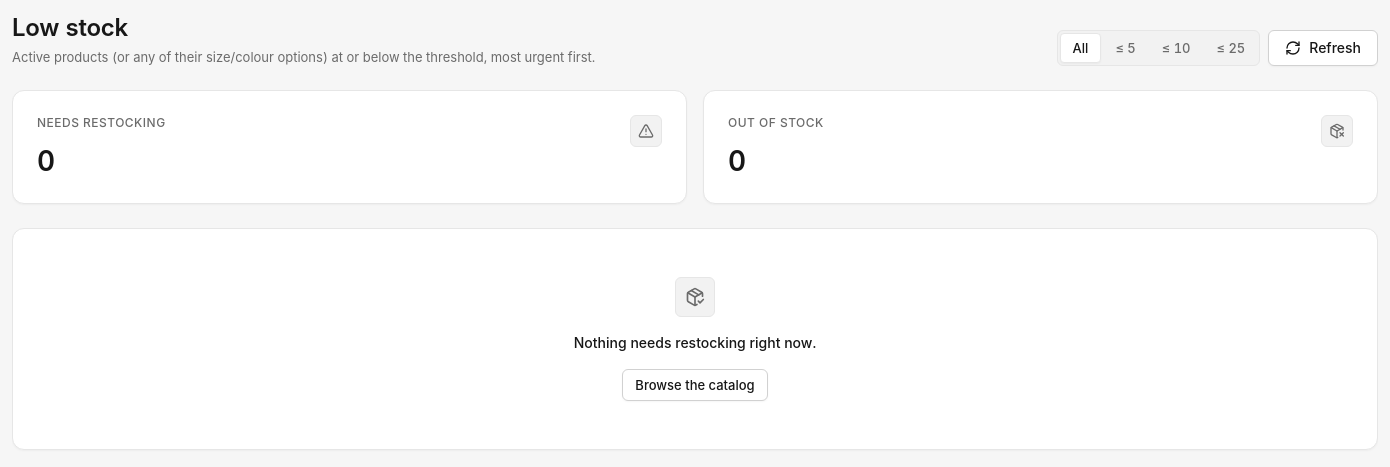
LowStock page › shows the threshold-specific empty state once a fixed range is picked
Click the button "≤ 5": (1126, 48) x1=1103 y1=33 x2=1148 y2=63
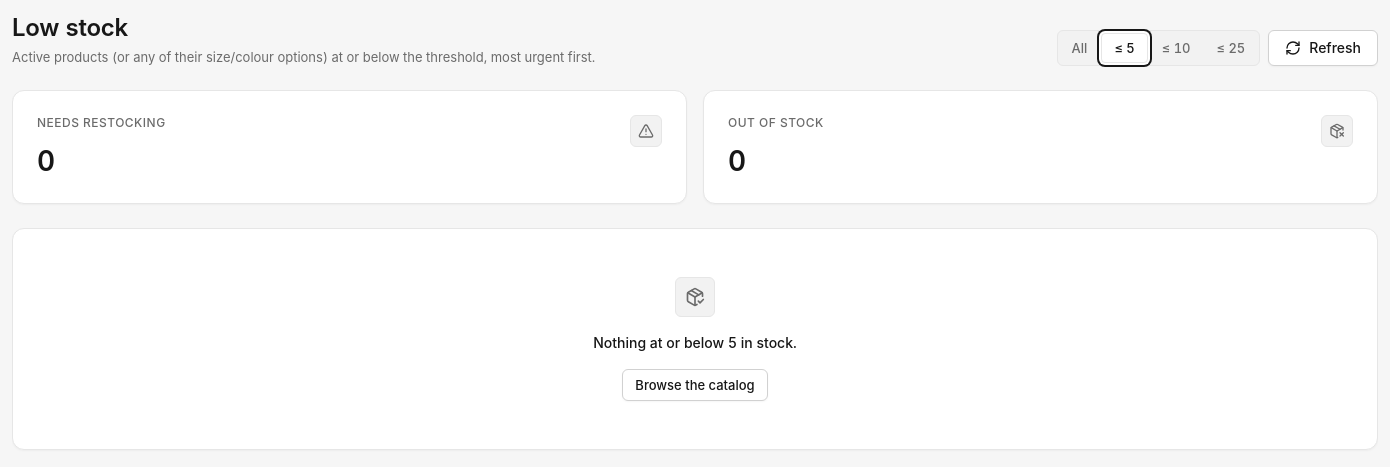
Result: the text "Nothing at or below 5 in stock." is shown at x1=593 y1=333 x2=797 y2=353
